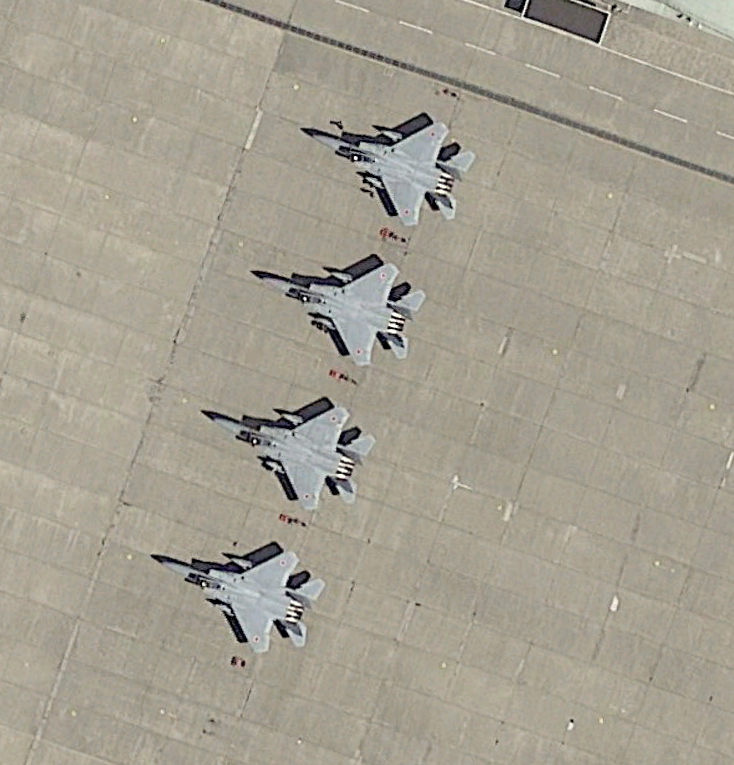A13: (298, 106, 483, 232), (243, 248, 428, 374), (199, 388, 384, 514), (147, 533, 332, 659)
